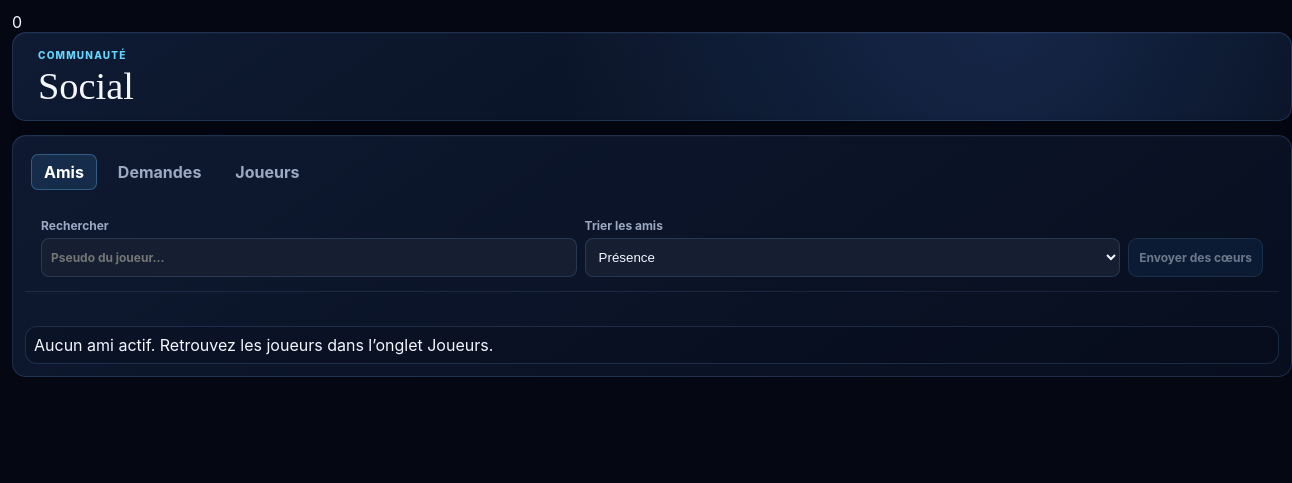
Scenario: Friendship UI and shared projection › shows an accepted request in Amis from the mutation refresh without waiting for polling
This screenshot has width=1292, height=483.
Click the button "Demandes".
click(160, 172)  # box [105,154,214,190]
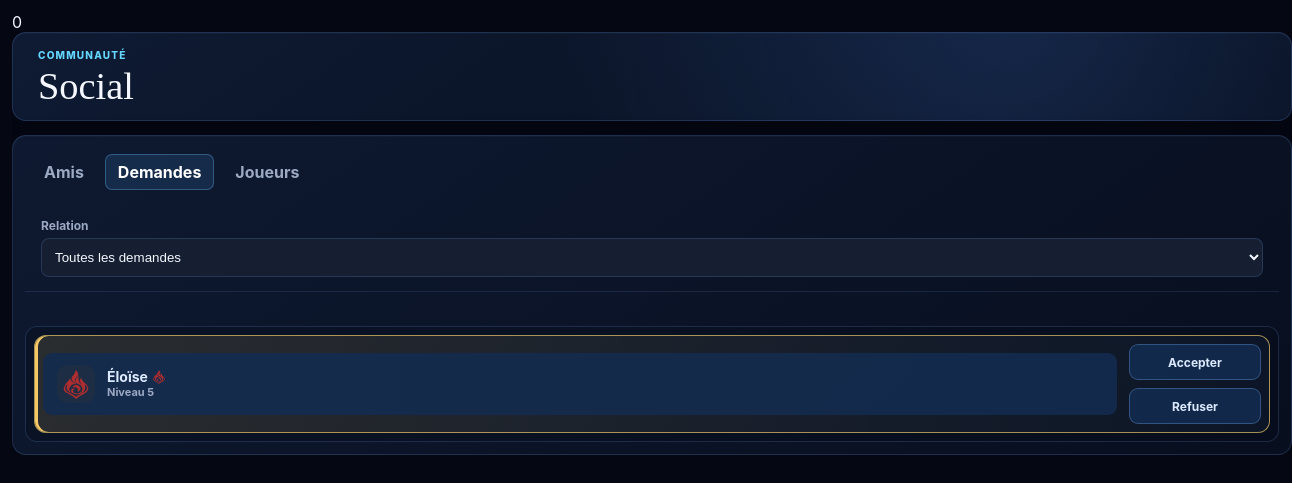
Click the button "Accepter".
click(1195, 362)  # box [1129,344,1261,380]
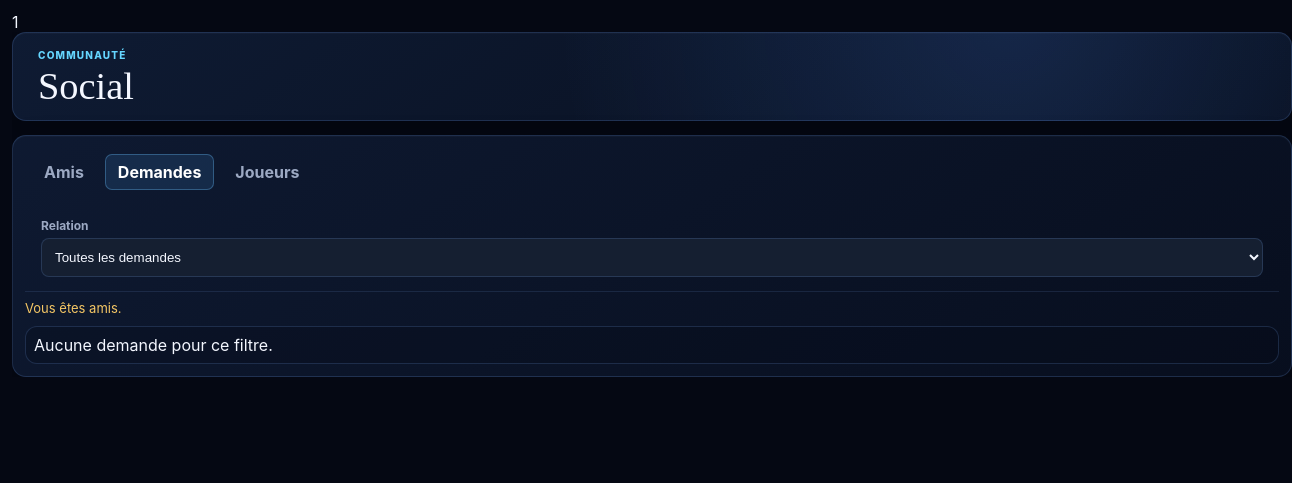
Click the button "Amis".
click(64, 172)  # box [31,154,97,190]
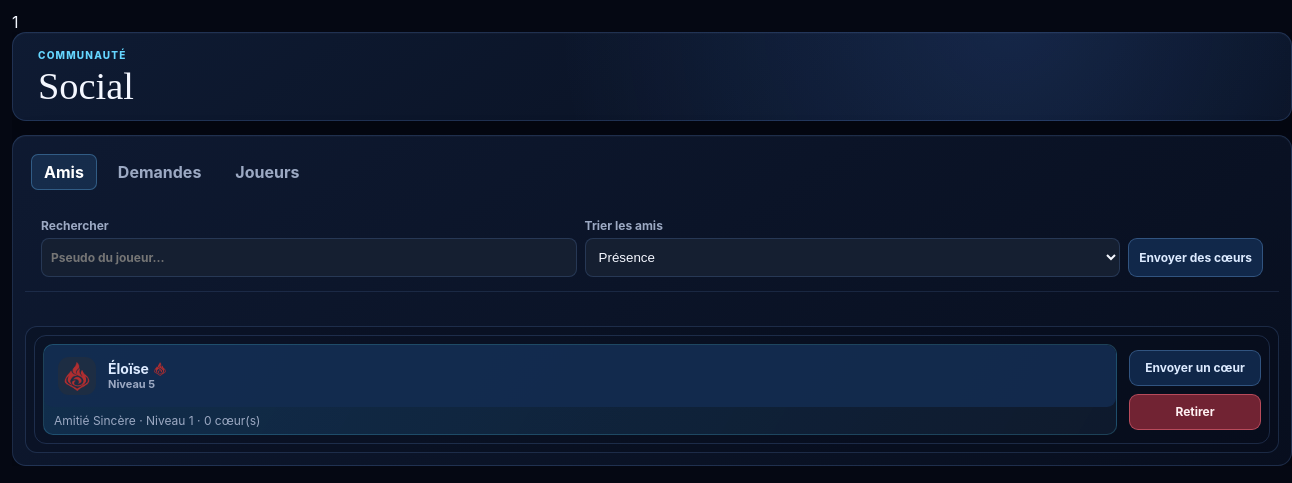
Check: the text "Amitié Sincère" is shown, box [54,413,136,428]
